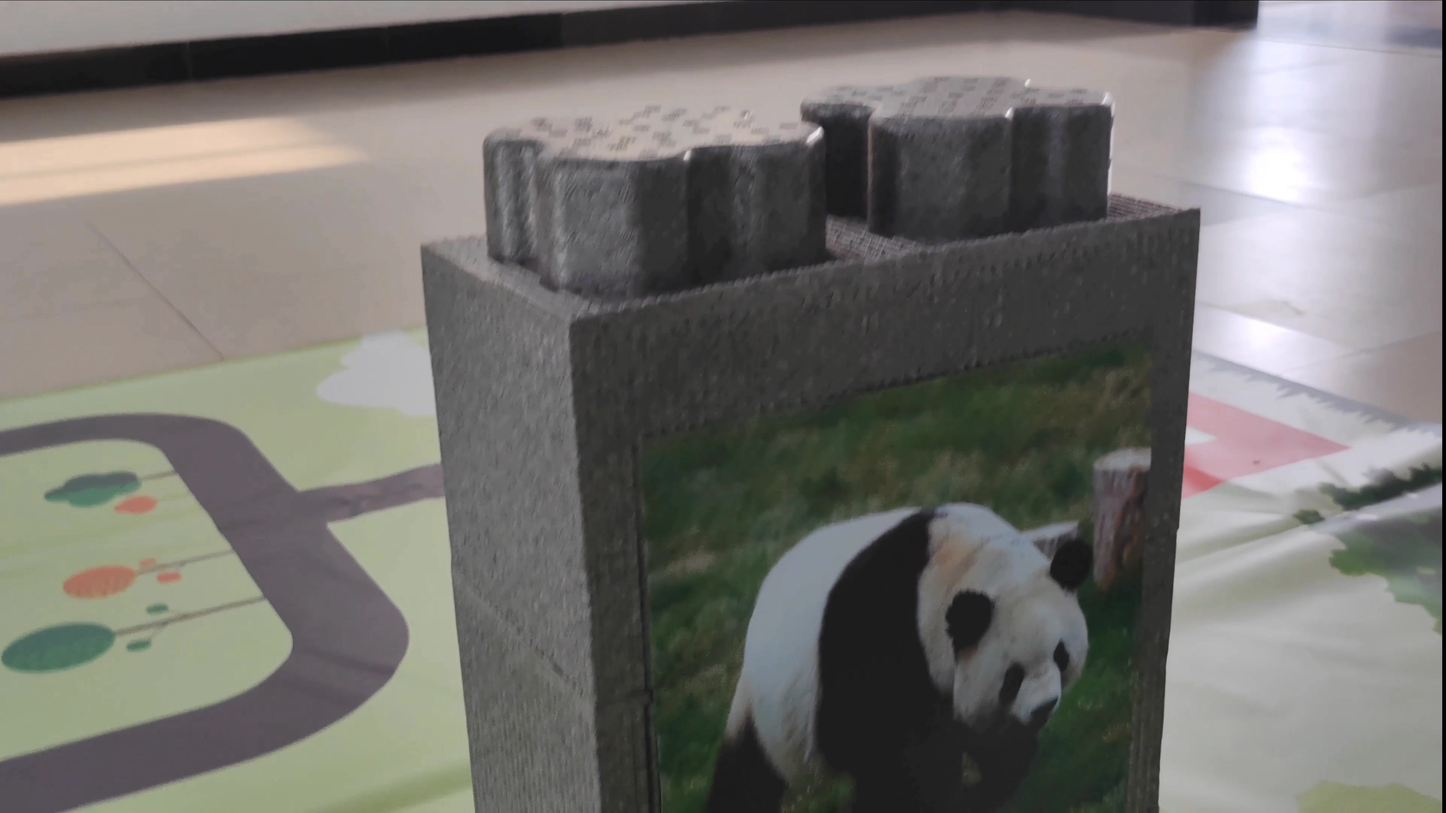panda: (688, 437, 1095, 806)
